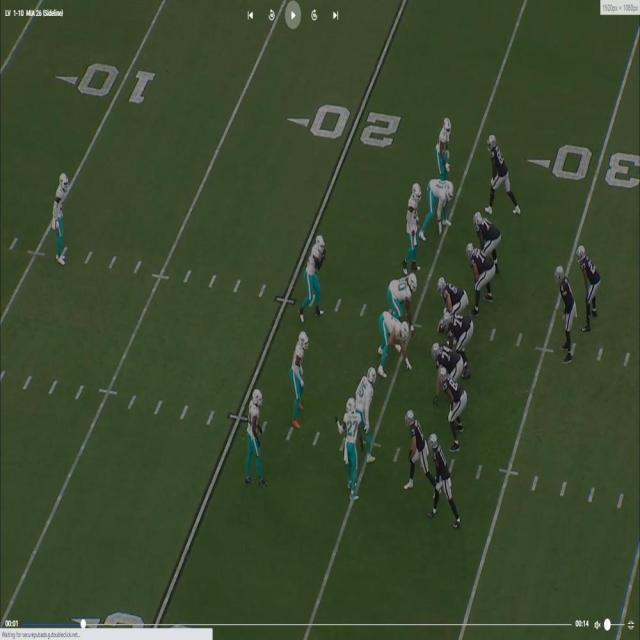center: (432, 275, 468, 325)
db: (340, 392, 363, 495), (244, 384, 264, 490), (51, 170, 70, 248), (434, 117, 457, 169)
lb: (403, 180, 423, 269), (304, 232, 326, 309), (296, 328, 308, 418)
qb: (553, 267, 576, 362)
skill: (429, 435, 453, 524), (490, 135, 517, 214), (576, 240, 596, 343), (440, 366, 464, 444), (404, 408, 426, 489)
